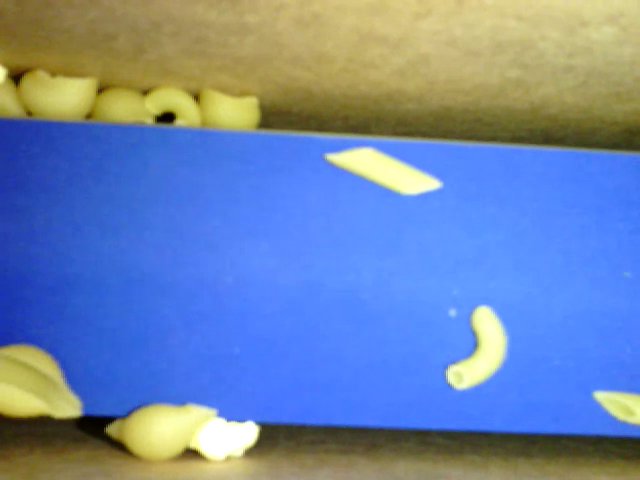elbow: (443, 303, 508, 392), (143, 84, 203, 128)
penne: (323, 143, 442, 196), (593, 392, 639, 425)
shell: (104, 402, 220, 460), (1, 344, 85, 419), (15, 68, 97, 119), (197, 84, 261, 128), (92, 88, 158, 126)
